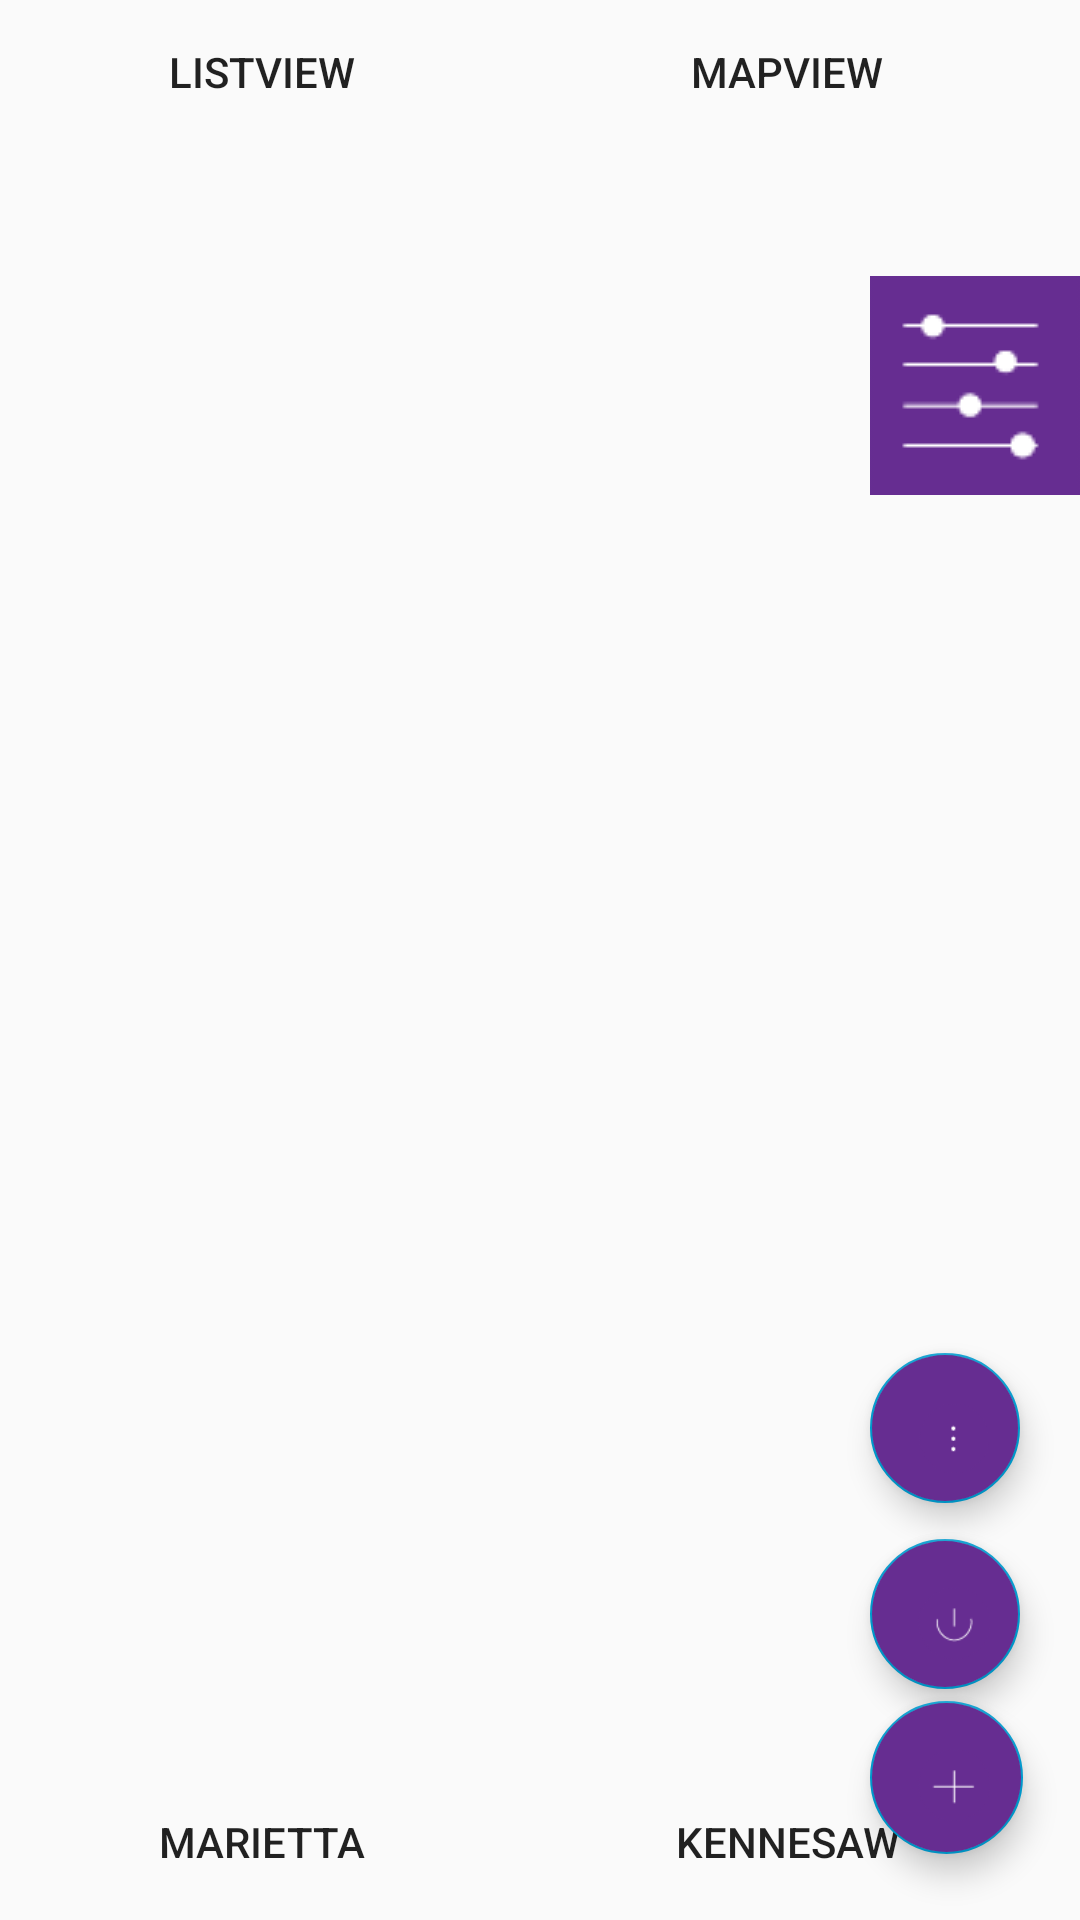

Screen size 1080 × 1920. Icon name, then its box in pixels as bbox(x1, y1, x2, y2):
add: bbox(870, 1701, 1023, 1854)
filter: bbox(870, 276, 1080, 495)
log: bbox(870, 1539, 1020, 1689)
more: bbox(870, 1353, 1020, 1503)
